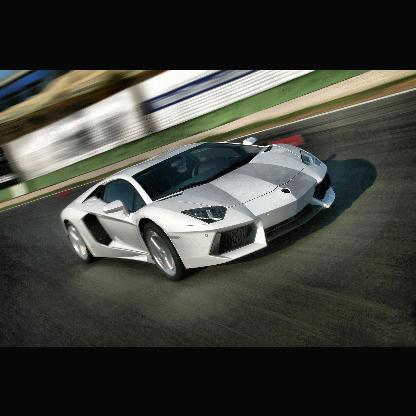Lamborghini Aventador Coupe 2012: (66, 136, 337, 278)
